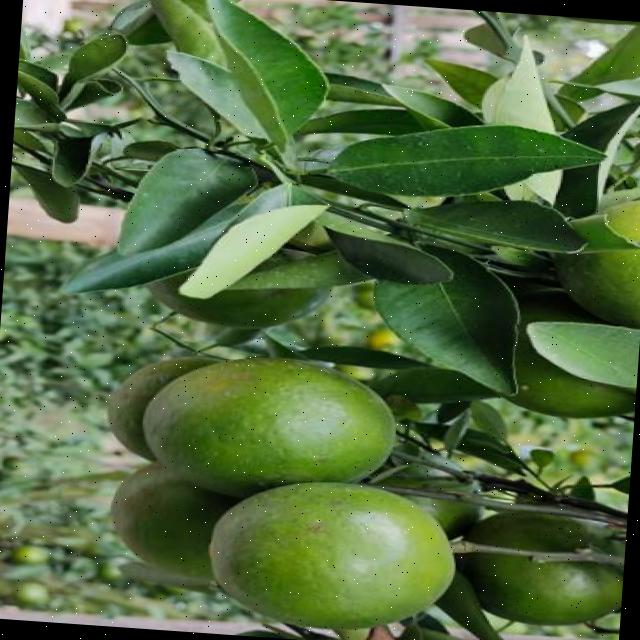Unripe: (202, 476, 459, 638), (134, 346, 404, 499)
